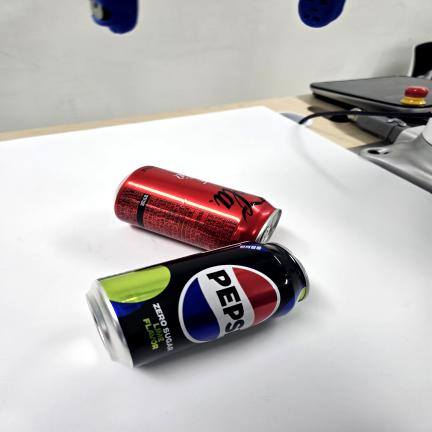can_coke_zero: (112, 164, 282, 254)
can_pepsi_zero: (87, 240, 310, 368)
